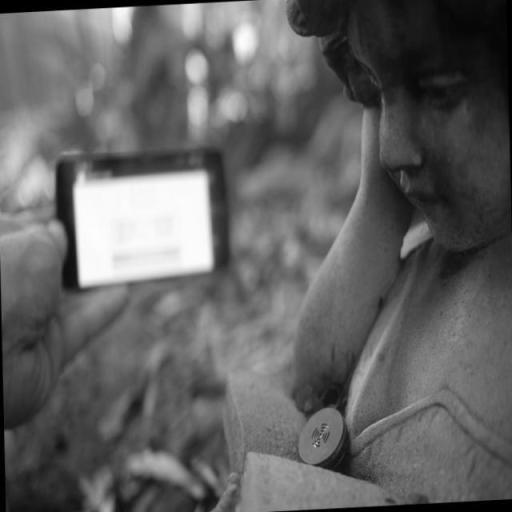phone: (57, 145, 233, 290)
